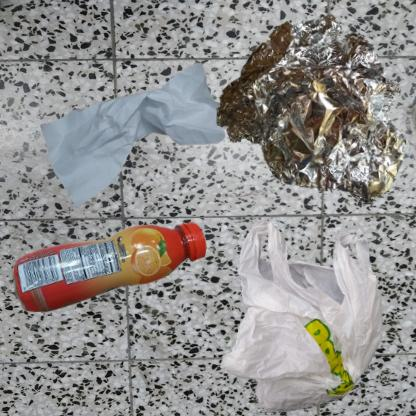aluminio: (213, 10, 412, 204)
bolsa: (213, 213, 407, 416)
botella: (10, 213, 213, 323)
papel: (10, 10, 278, 290)
